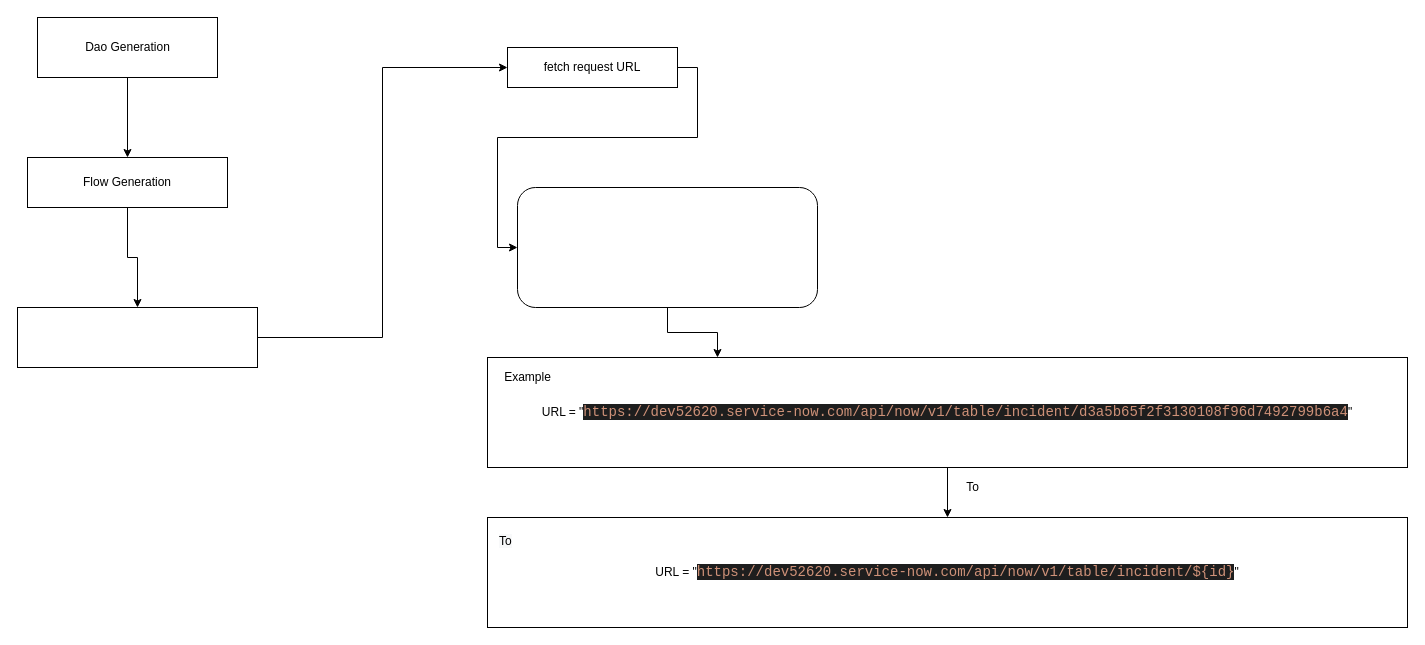
Image size: 1425x645. Some labels were removed from this diagram. The shapes that lost their labels are listed below. From the top down, each one's centre as x and y in pixels, then its label:
At point 667,247: "Static id from the Json collection for an connector API".
At point 137,337: "Fetch request Generation".
